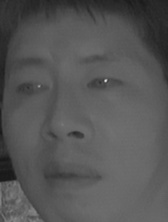eye: (84, 73, 126, 97), (11, 78, 51, 99)
mouth: (39, 157, 101, 192)
